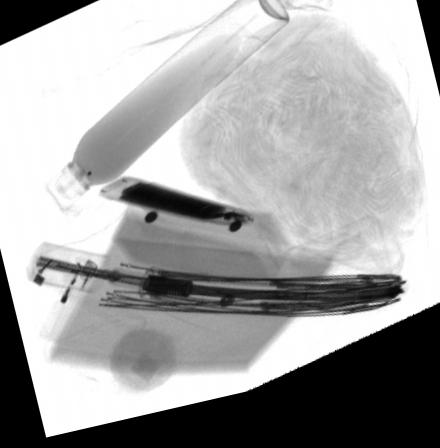Lighter: (38, 261, 99, 345)
Powerbank: (99, 179, 252, 238)
Sprayer: (43, 0, 290, 216)
